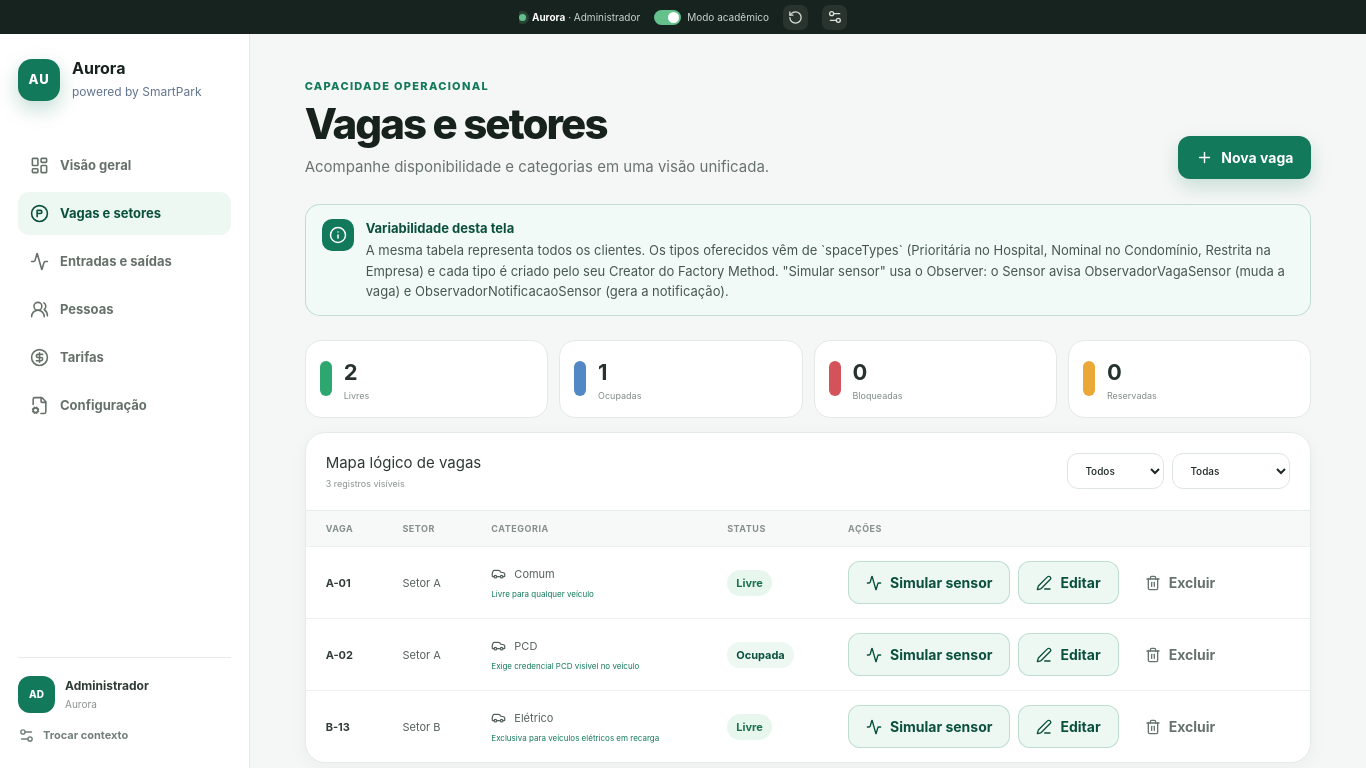
vagas › mostra o erro da API ao tentar excluir uma vaga ocupada
The image size is (1366, 768).
Click the button with aria-label "Excluir vaga A-02". click: coordinates (1180, 655)
box: x1=1127 y1=633 x2=1233 y2=676
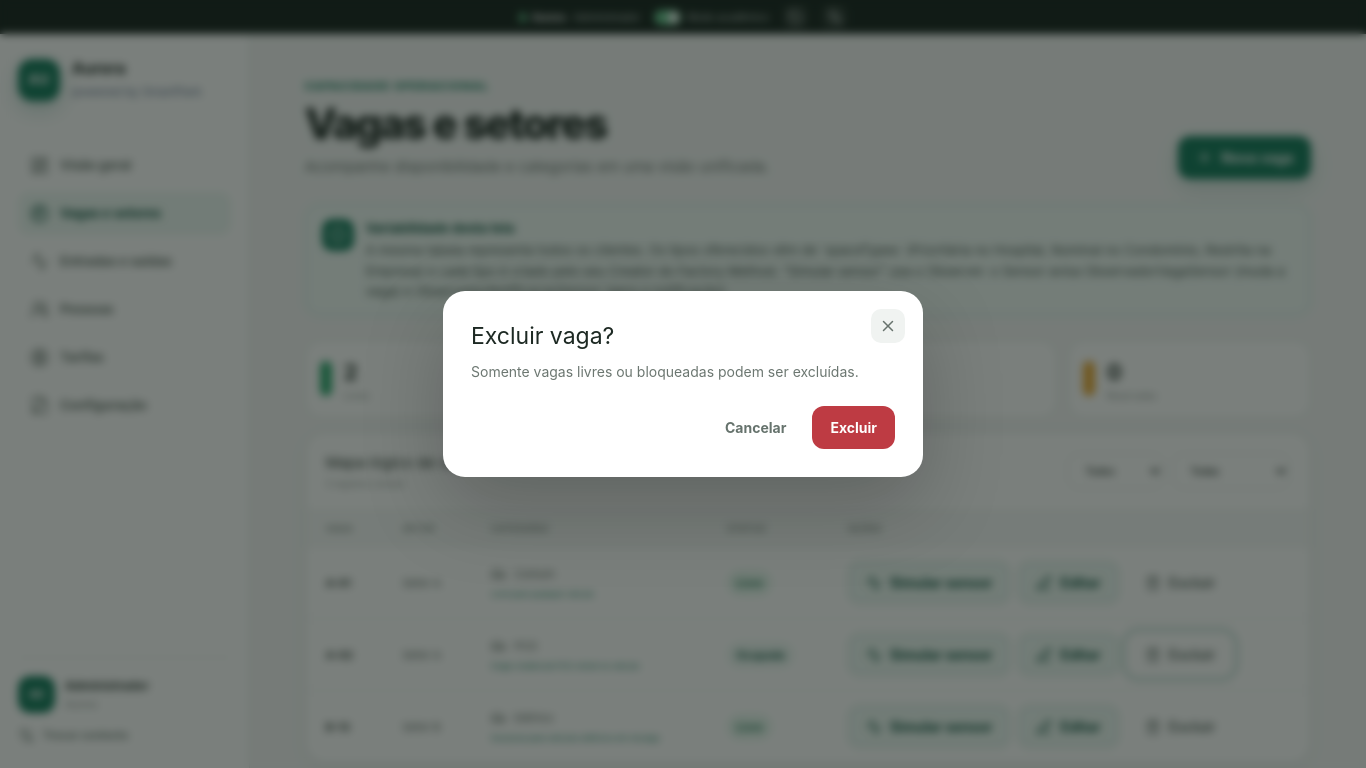
Click the button "Excluir". click: coordinates (854, 427)
box: x1=812 y1=406 x2=895 y2=449
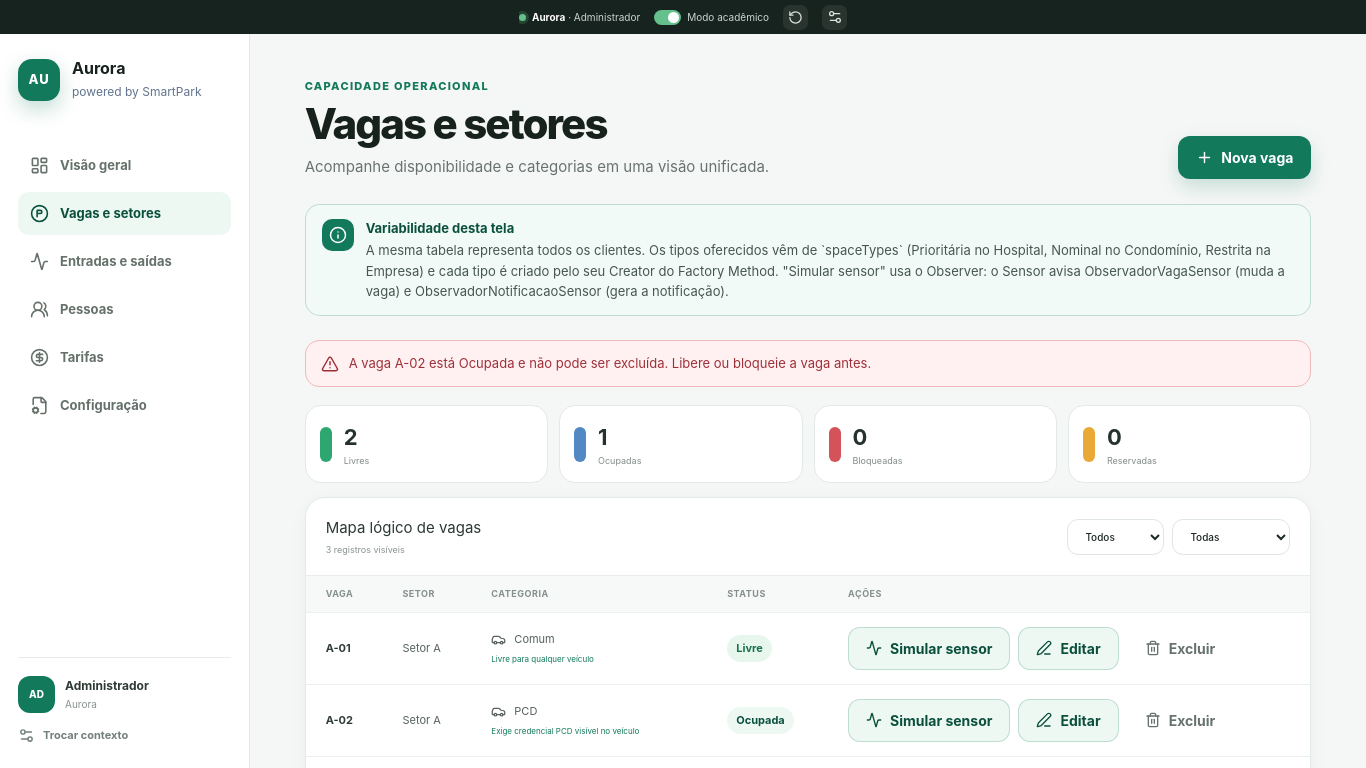
Expected: the text "A-02" is shown, x1=326 y1=713 x2=353 y2=727
Now the text "A vaga A-02 está Ocupada" is shown, box x1=349 y1=355 x2=871 y2=371
